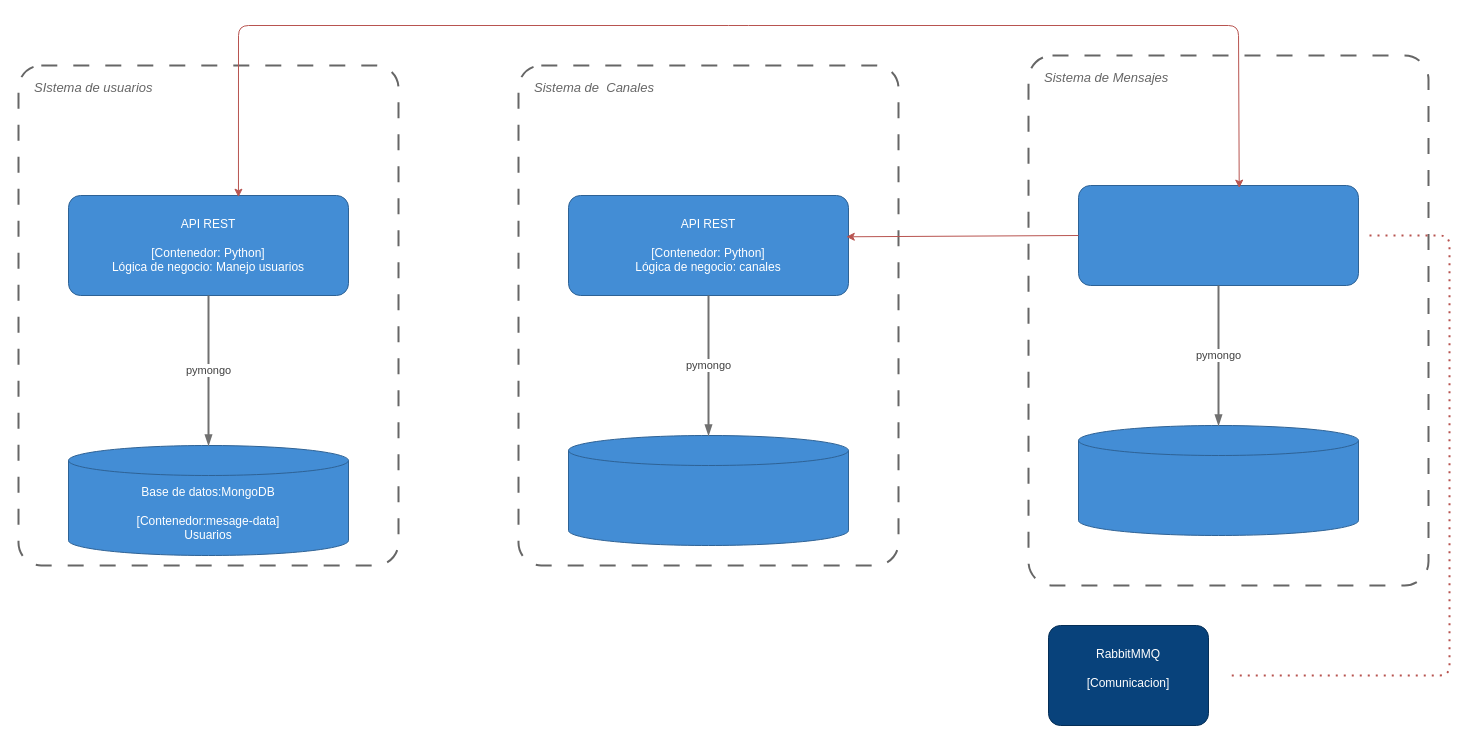
This 1468x743 diagram has some shape labels left out. The shapes that lost their labels are listed below. From the top down, each one's centre as x and y in pixels, then its label:
At pixel 1218 235: "API REST [Contenedor: Python ] Lógica de negocio: mensajes".
At pixel 708 490: "Base de datos: MongoDB [Contenedor: channels-data] Informacion canales".
At pixel 1218 480: "Base de datos: MongoDB [Contenedor: PostgreSQL] Mensajes".
